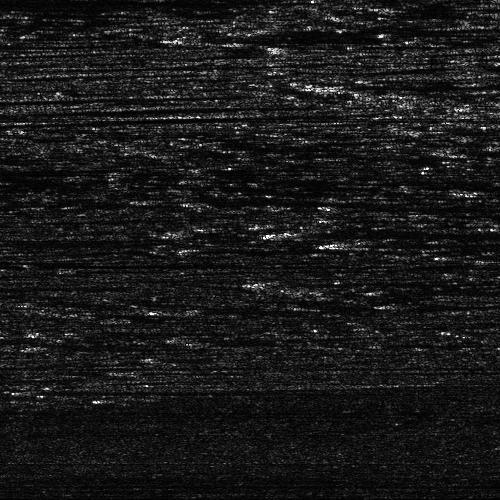object: (282, 80, 365, 91), (173, 307, 204, 314), (363, 302, 416, 305), (330, 242, 361, 245), (259, 230, 270, 235)
shadow: (0, 1, 191, 12), (0, 0, 325, 6), (324, 80, 488, 91), (265, 230, 500, 235), (188, 307, 350, 314), (0, 40, 138, 45), (390, 302, 500, 305), (346, 242, 432, 245), (0, 302, 25, 309)
